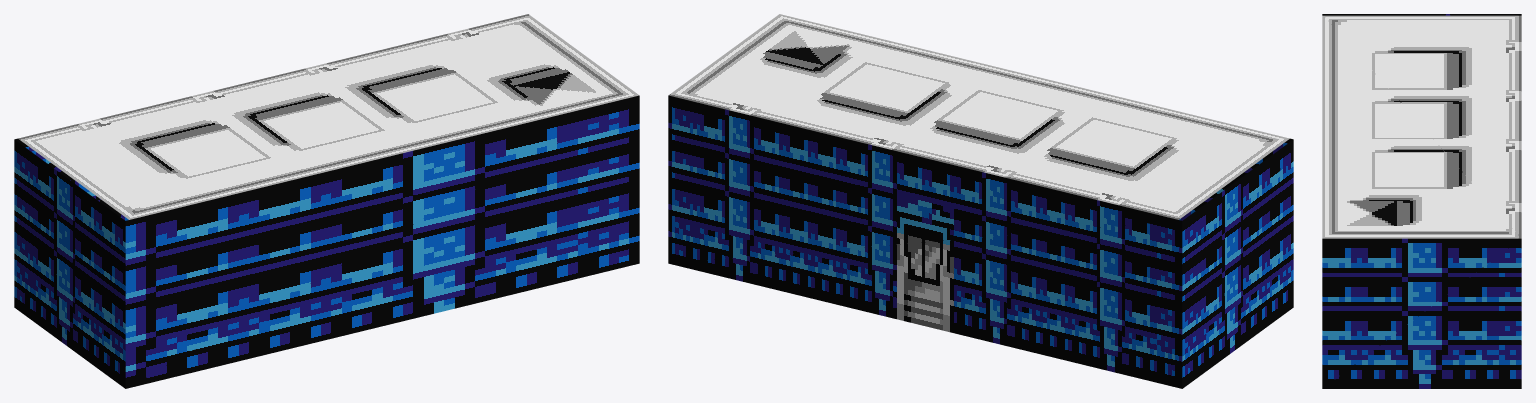
The model's file is maison-bleue-1.gltf.
3 views of the same model, side by side, from view 1: azimuth 30°, elevation 25°; view 2: azimuth 150°, elevation 25°; view 3: azimuth 270°, elevation 25° (orthographic). The views are drawn at different scales.
Parts seen in each view (by area): view 1: maison-bleue-1; view 2: maison-bleue-1; view 3: maison-bleue-1.
Boxes of the visible parts, x1,y1,x2,y2 form: maison-bleue-1: [14, 14, 639, 388]; maison-bleue-1: [668, 14, 1293, 388]; maison-bleue-1: [1322, 14, 1521, 388].
Bounding box in the file's own units: 1 × 0.3125 × 0.375.
Materials: 3 (2 with a texture image).
